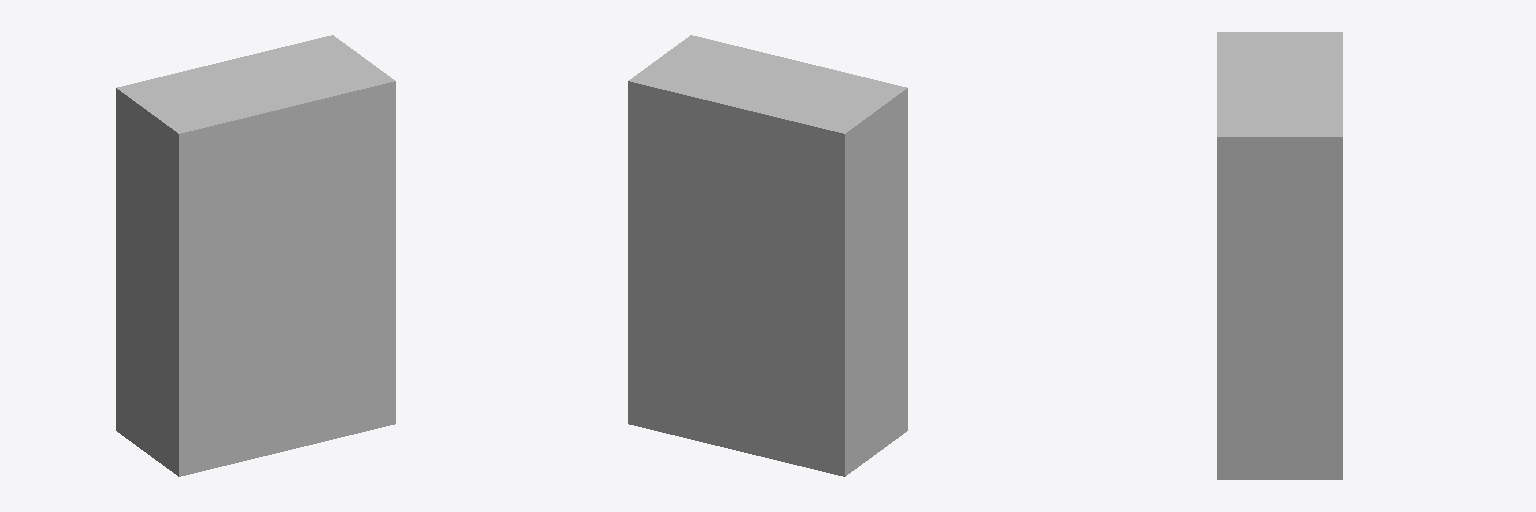
Rendered from CharLeg.obj.
The picture shows the model from 3 angles: view 1: azimuth 30°, elevation 25°; view 2: azimuth 150°, elevation 25°; view 3: azimuth 270°, elevation 25°; orthographic projection.
Visible parts, largest first — view 1: initialShadingGroup pCube6, initialShadingGroup pCube9; view 2: initialShadingGroup pCube6, initialShadingGroup pCube9; view 3: initialShadingGroup pCube9, initialShadingGroup pCube6.
Boxes of the visible parts, <box> form: initialShadingGroup pCube6: <box>116,61,287,476</box>; initialShadingGroup pCube9: <box>226,35,395,450</box>; initialShadingGroup pCube6: <box>736,61,907,476</box>; initialShadingGroup pCube9: <box>628,35,797,449</box>; initialShadingGroup pCube9: <box>1217,85,1342,479</box>; initialShadingGroup pCube6: <box>1217,32,1342,84</box>.
Size of the model in its own units: 7.94 by 12 by 4.